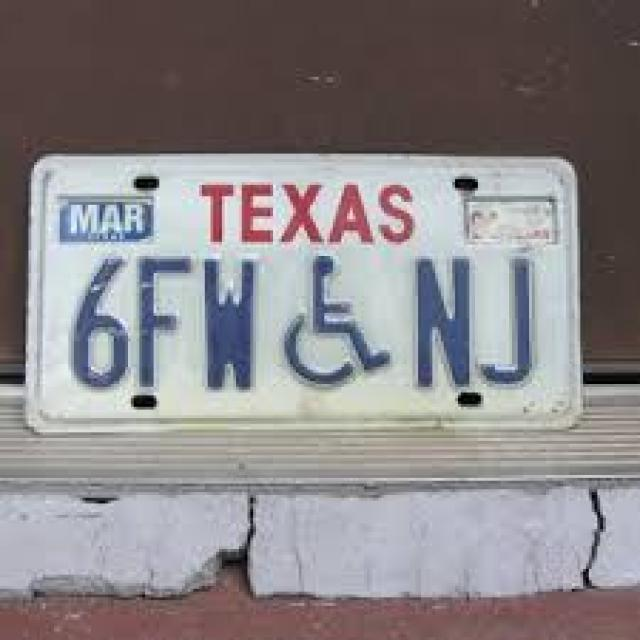symbol_of_access: (284, 258, 390, 390)
